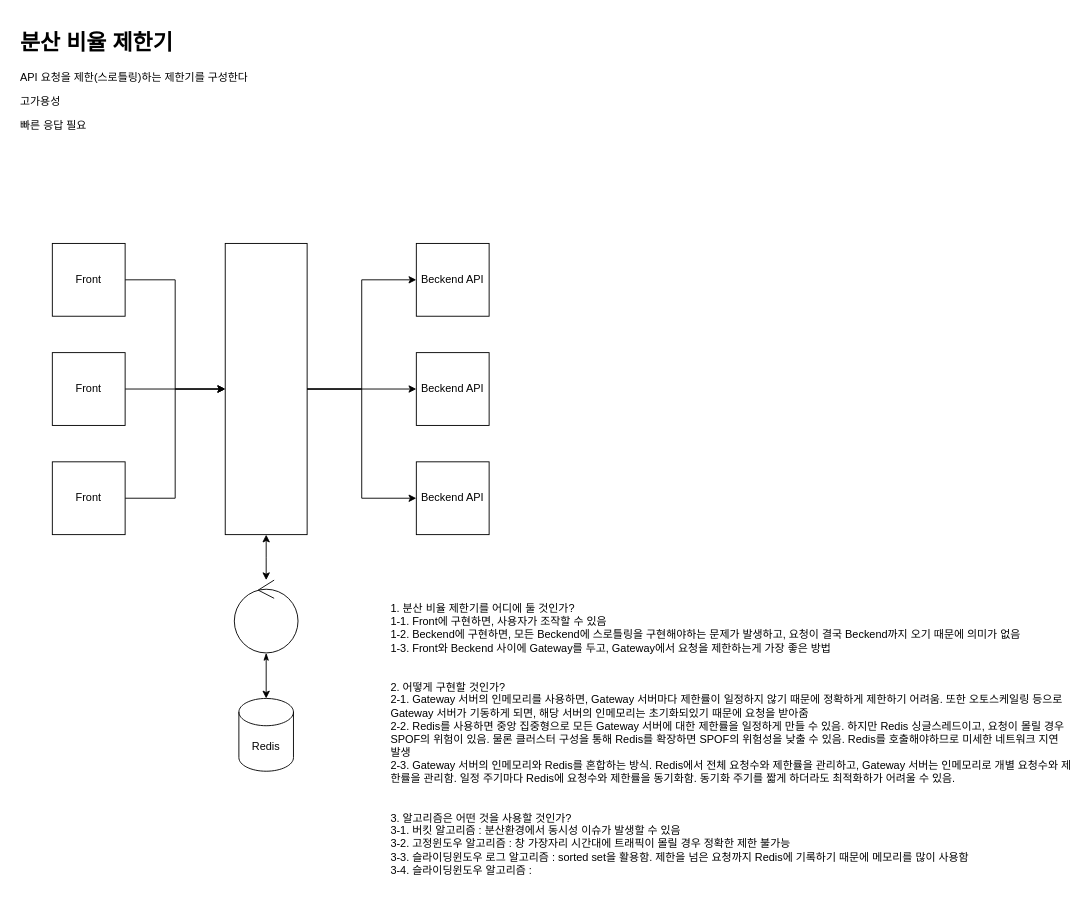
Image size: 1087x914. Some labels were removed from this diagram. Here are the shapes that lost their labels. From the top down, the box of each, then its label:
(224, 243, 307, 535): Gateway
(233, 579, 298, 653): 일정 주기마다 동기화
